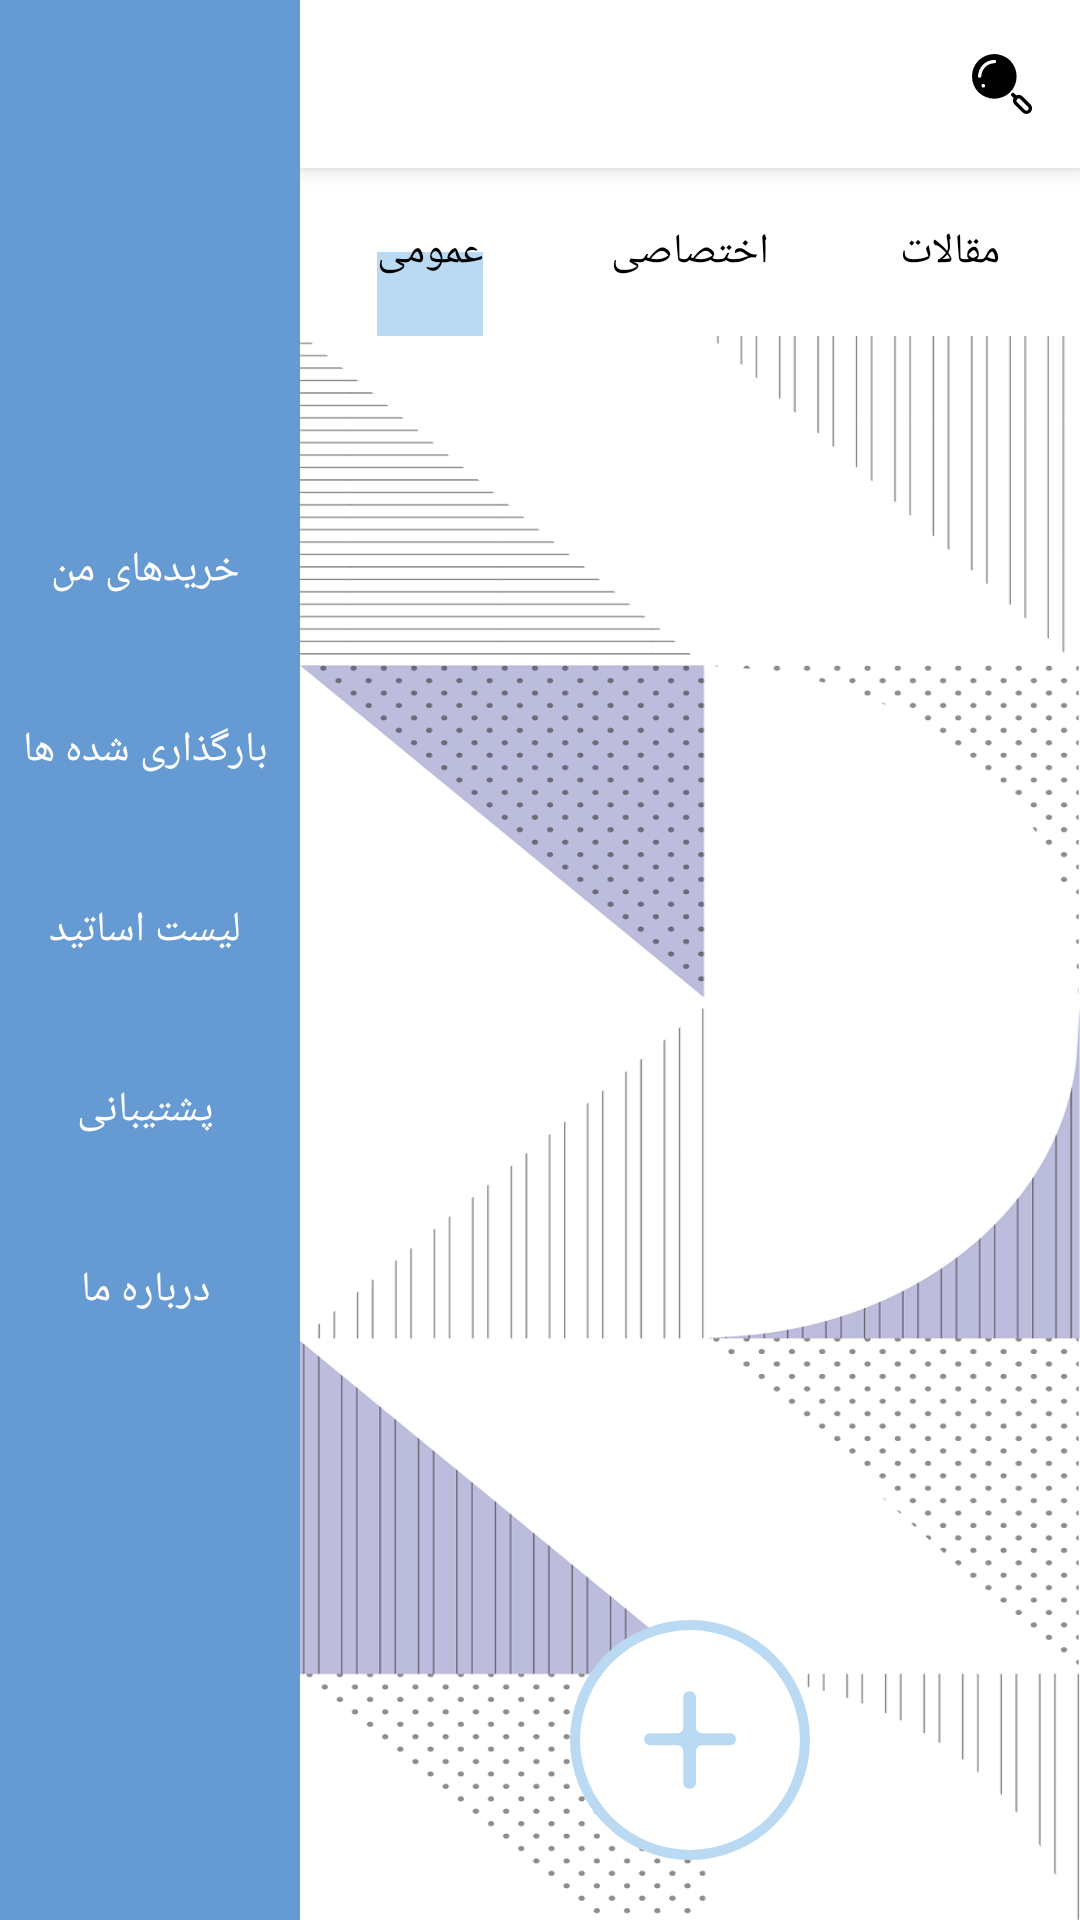

Screen size 1080w x 1920h. Icon name, then its center in pixels as point (x, y):
add: point (690, 1740)
search: point (1002, 84)
